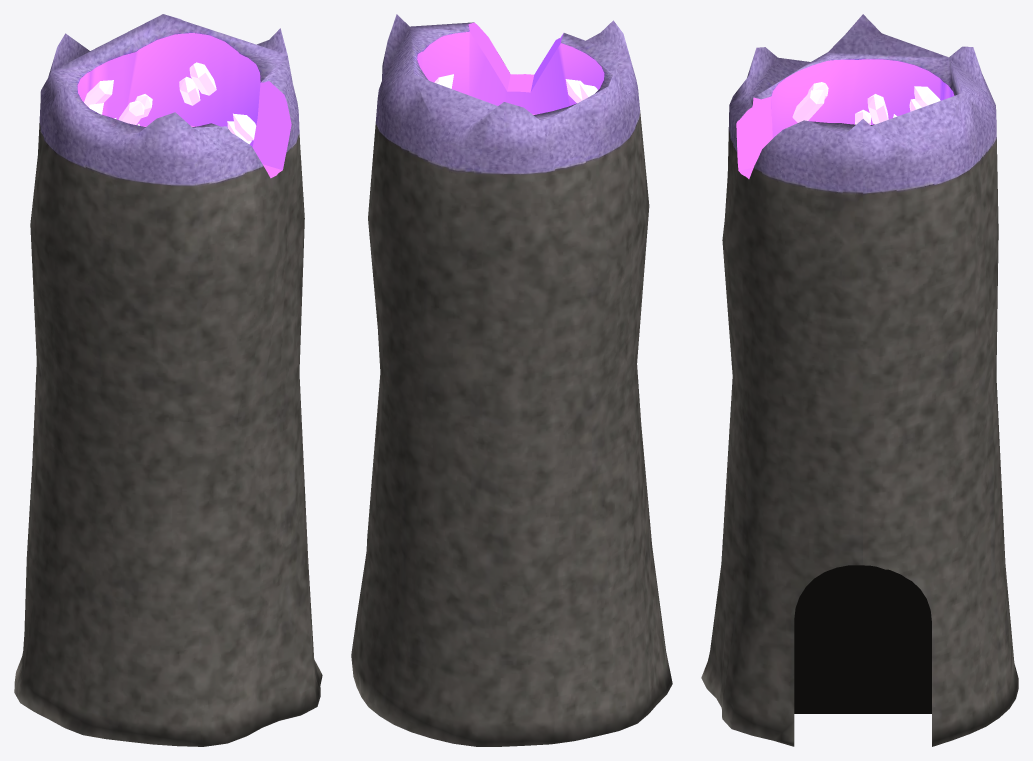
File: geode.glb
The picture shows the model from 3 angles, left to right: view 1: azimuth 30°, elevation 25°; view 2: azimuth 150°, elevation 25°; view 3: azimuth 270°, elevation 25°; orthographic projection. The views are drawn at different scales.
Parts seen in each view (by area): view 1: rock, crystals; view 2: rock, crystals; view 3: rock, crystals.
Boxes of the visible parts, box(x1,y1,x2,y2) form: rock: box(14, 14, 322, 746); crystals: box(84, 62, 256, 144); rock: box(351, 14, 672, 746); crystals: box(434, 74, 597, 103); rock: box(701, 14, 1018, 746); crystals: box(792, 82, 940, 124).
Bounding box in the file's own units: 6.48 × 15 × 6.91.
Materials: 4 (1 with a texture image).
